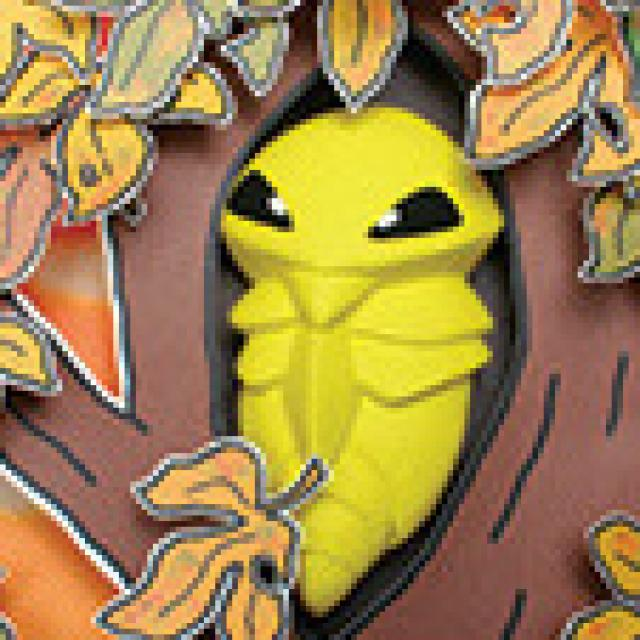Kakuna: (210, 102, 488, 621)
